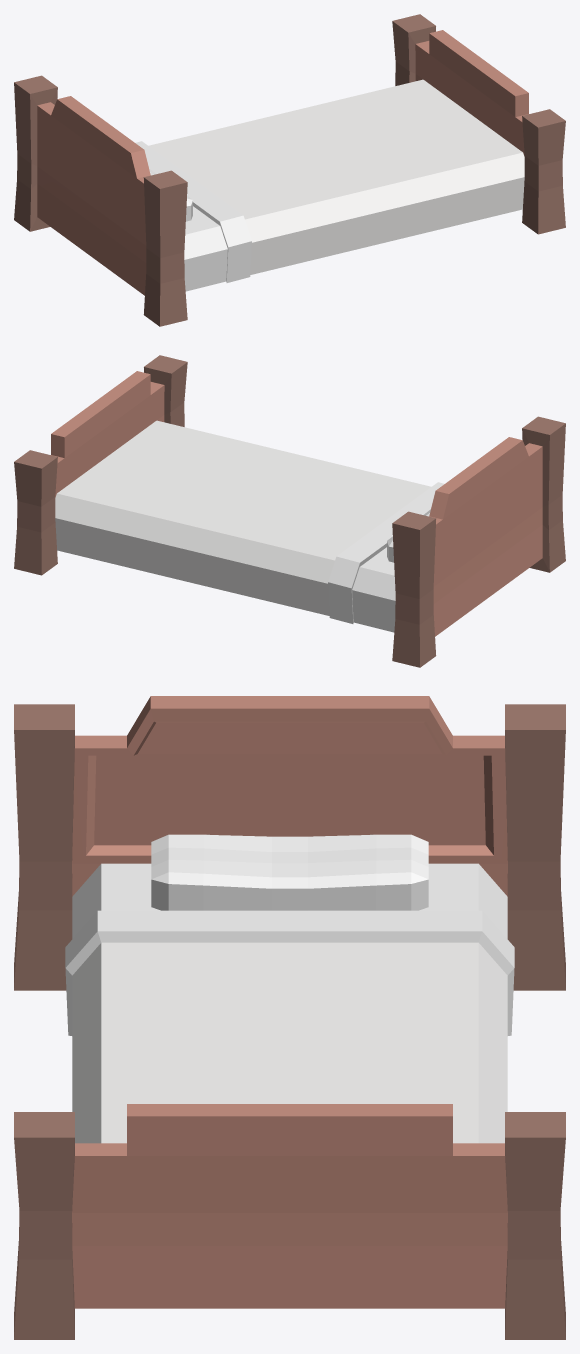
File: Bed.glb
3 renders of one model, top to bottom at view 1: azimuth 30°, elevation 25°; view 2: azimuth 150°, elevation 25°; view 3: azimuth 270°, elevation 25°, orthographic. The views are drawn at different scales.
Visible parts, largest first — view 1: Sheets, Wood, DarkBrown, White; view 2: Sheets, Wood, DarkBrown, White; view 3: Wood, Sheets, DarkBrown, White.
Part boxes in pixels (<box>): Sheets: <box>148,79,524,274</box>; Wood: <box>37,30,528,295</box>; DarkBrown: <box>14,14,565,326</box>; White: <box>135,141,251,291</box>; Sheets: <box>55,420,431,615</box>; Wood: <box>51,371,542,636</box>; DarkBrown: <box>14,355,565,667</box>; White: <box>328,482,444,632</box>; Wood: <box>72,696,507,1308</box>; Sheets: <box>72,942,507,1143</box>; DarkBrown: <box>14,704,565,1339</box>; White: <box>65,834,514,1035</box>.
Size of the model in its own units: 1.43 by 0.4898 by 0.8898.
